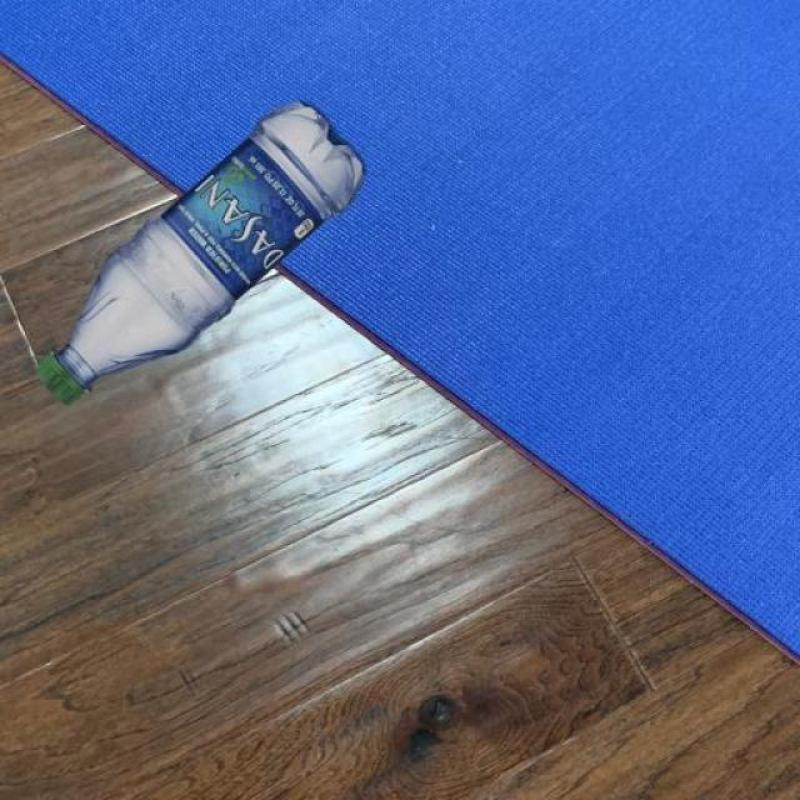botella: (37, 104, 368, 406)
